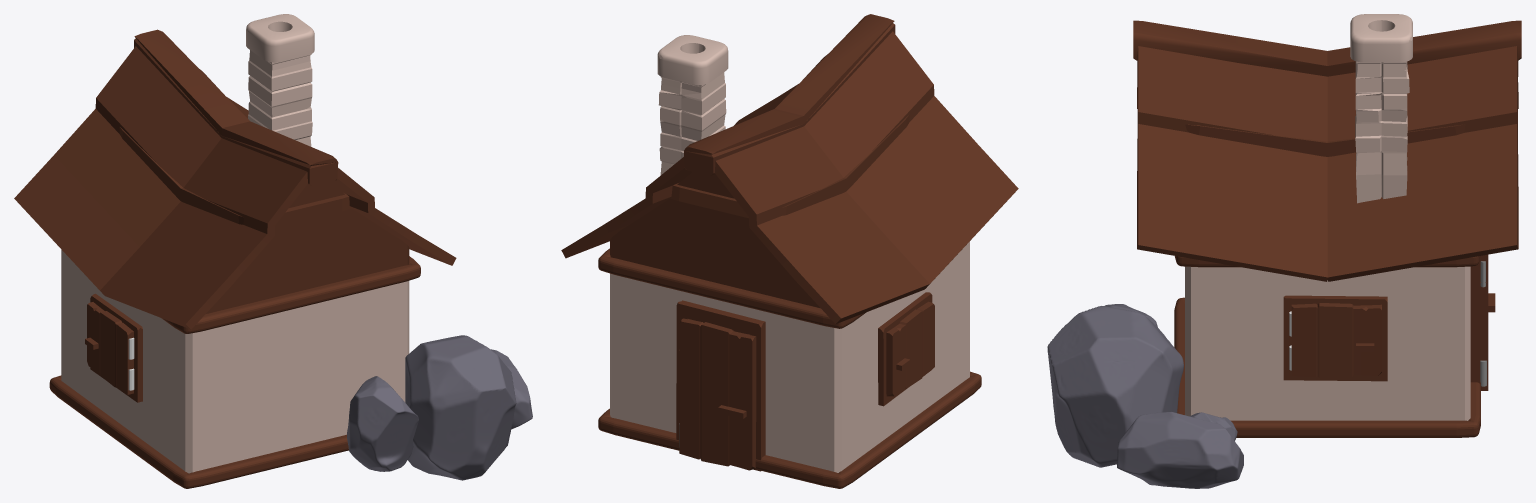
Rendered from simplehittn.gltf.
The picture shows the model from 3 angles, left to right: view 1: azimuth 30°, elevation 25°; view 2: azimuth 150°, elevation 25°; view 3: azimuth 270°, elevation 25°; orthographic projection. The views are drawn at different scales.
Visible parts, largest first — view 1: roof, main, Cylinder, upper, rings, roofbalken, Cylinder.002, Cube, Cube.003, upper ring, Cube.001, Cube.004 (+1 smaller); view 2: roof, main, upper, Cube.006, rings, roofbalken, Cube, Cube.003, Cube.005, Cube.001, upper ring, Cube.004; view 3: roof, main, Cylinder, roofbalken, Cylinder.001, Cube, Cube.003, rings, Cube.001, upper ring, Cube.004, Cube.006 (+1 smaller).
Boxes of the visible parts, <box> form: roof: <box>14,46,456,329</box>; main: <box>61,249,409,473</box>; Cylinder: <box>405,335,516,480</box>; upper: <box>206,182,409,313</box>; rings: <box>49,256,420,488</box>; roofbalken: <box>134,29,338,186</box>; Cylinder.002: <box>347,376,418,471</box>; Cube: <box>248,50,312,146</box>; Cube.003: <box>85,302,134,394</box>; upper ring: <box>119,126,352,227</box>; Cube.001: <box>246,14,314,62</box>; Cube.004: <box>90,293,142,402</box>; roof: <box>561,31,1018,324</box>; main: <box>610,241,969,472</box>; upper: <box>610,172,820,308</box>; Cube.006: <box>679,318,756,470</box>; rings: <box>598,248,981,488</box>; roofbalken: <box>684,14,895,175</box>; Cube: <box>658,72,726,174</box>; Cube.003: <box>886,301,934,396</box>; Cube.005: <box>676,300,765,471</box>; Cube.001: <box>657,35,728,85</box>; upper ring: <box>669,114,909,218</box>; Cube.004: <box>878,292,932,406</box>; roof: <box>1137,46,1518,281</box>; main: <box>1185,266,1470,420</box>; Cylinder: <box>1047,306,1183,467</box>; roofbalken: <box>1133,20,1521,76</box>; Cylinder.001: <box>1117,412,1243,488</box>; Cube: <box>1355,61,1409,203</box>; Cube.003: <box>1289,303,1381,378</box>; rings: <box>1174,256,1480,437</box>; Cube.001: <box>1350,14,1412,62</box>; upper ring: <box>1185,124,1465,156</box>; Cube.004: <box>1283,295,1387,381</box>; Cube.006: <box>1480,254,1495,390</box>.
Size of the model in its own units: 3.19 by 3.1 by 3.32.
